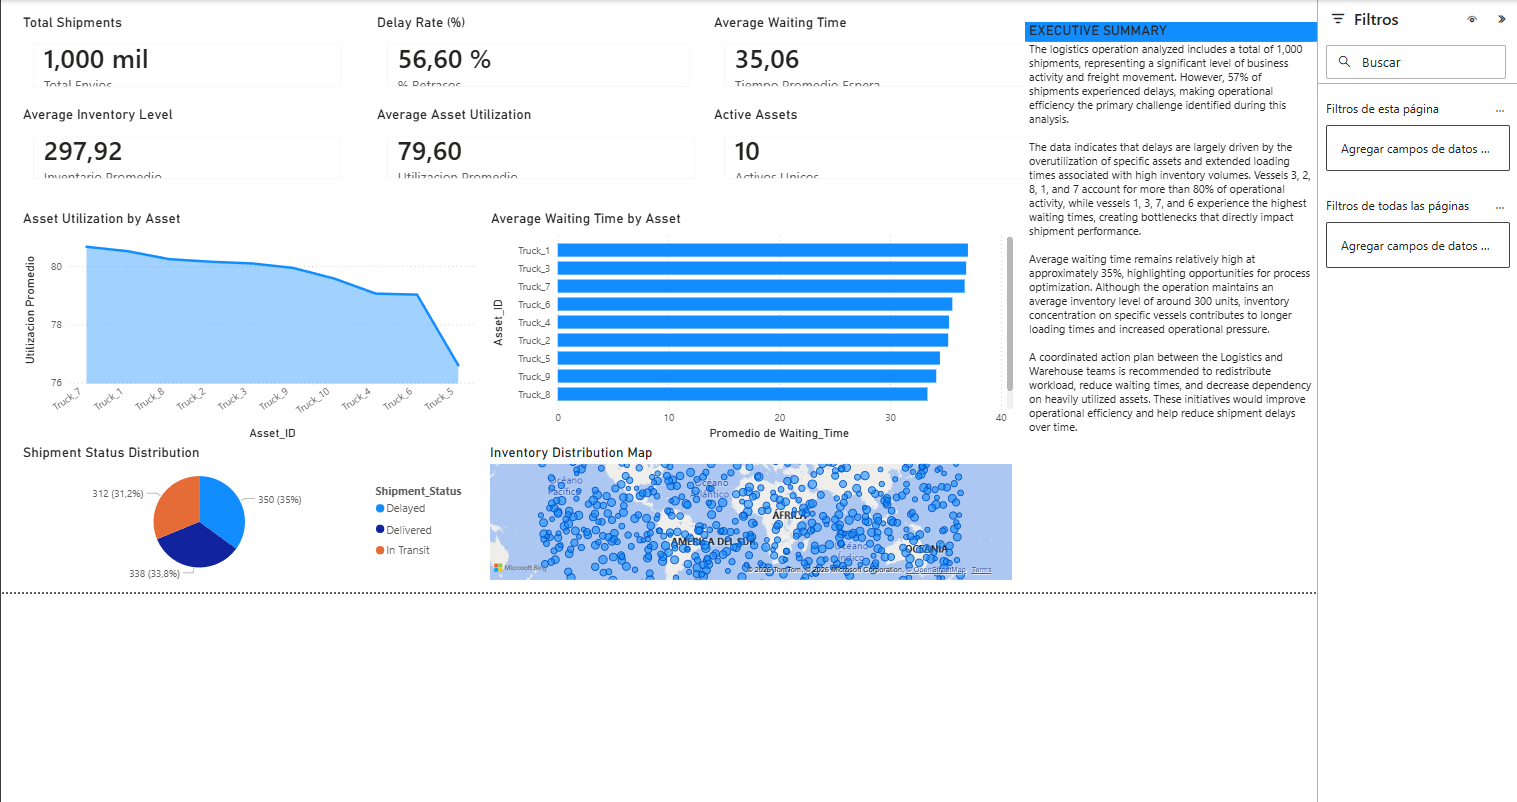

The page's visual inventory and layout, read from the dashboard file:
{"tool":"powerbi","page":{"name":"Executive Dashboard","canvas":[1600,720],"ordinal":0},"visuals":[{"type":"cardVisual","title":"Total Shipments","fields":{"Data":["Waiting_status.Total Envios"]},"box":[21.4,16.5,409.5,106],"z":0},{"type":"cardVisual","title":"Delay Rate (%)","fields":{"Data":["Waiting_status.% Retrasos"]},"box":[452.3,16.5,402.7,106],"z":1000},{"type":"cardVisual","title":"Average Waiting Time","fields":{"Data":["Waiting_status.Tiempo Promedio Espera"]},"box":[861.8,16.5,409.5,106],"z":2000},{"type":"cardVisual","title":"Average Inventory Level","fields":{"Data":["Waiting_status.Inventario Promedio"]},"box":[21.4,129.4,409.5,106],"z":3000},{"type":"cardVisual","title":"Average Asset Utilization","fields":{"Data":["Waiting_status.Utilizacion Promedio"]},"box":[452.3,129.4,409.5,106],"z":4000},{"type":"cardVisual","title":"Active Assets","fields":{"Data":["Waiting_status.Activos Unicos"]},"box":[861.8,129.4,409.5,106],"z":5000},{"type":"areaChart","title":"Asset Utilization by Asset","fields":{"Category":["tbl_logistics.Asset_ID"],"Y":["Waiting_status.Utilizacion Promedio"]},"box":[21.4,255.8,559.3,284],"z":6000},{"type":"barChart","title":"Average Waiting Time by Asset","fields":{"Category":["tbl_logistics.Asset_ID"],"Y":["Avg(tbl_logistics.Waiting_Time)"]},"box":[590.4,255.8,644.9,284],"z":7000},{"type":"pieChart","title":"Shipment Status Distribution","fields":{"Category":["tbl_logistics.Shipment_Status"],"Y":["CountNonNull(tbl_logistics.Shipment_Status)"]},"box":[22.4,539.8,558.3,170.2],"z":8000},{"type":"map","title":"Inventory Distribution Map","fields":{"Y":["tbl_logistics.Latitude"],"X":["tbl_logistics.Longitude"],"Size":["Avg(tbl_logistics.Inventory_Level)"]},"box":[590,540,645,170],"z":9000},{"type":"textbox","title":"EXECUTIVE SUMMARY","box":[1245,26.7,355,672.3],"z":9001}]}

Visuals, with their boxes on the page's 1600x720 design canvas (x1, y1, x2, y2). These are canvas units, not pixel positions in the 1517x802 screenshot, which may show the page scaled, cropped or inside an application window:
"Total Shipments" cardVisual: x1=21, y1=16, x2=431, y2=122
"Delay Rate (%)" cardVisual: x1=452, y1=16, x2=855, y2=122
"Average Waiting Time" cardVisual: x1=862, y1=16, x2=1271, y2=122
"Average Inventory Level" cardVisual: x1=21, y1=129, x2=431, y2=235
"Average Asset Utilization" cardVisual: x1=452, y1=129, x2=862, y2=235
"Active Assets" cardVisual: x1=862, y1=129, x2=1271, y2=235
"Asset Utilization by Asset" areaChart: x1=21, y1=256, x2=581, y2=540
"Average Waiting Time by Asset" barChart: x1=590, y1=256, x2=1235, y2=540
"Shipment Status Distribution" pieChart: x1=22, y1=540, x2=581, y2=710
"Inventory Distribution Map" map: x1=590, y1=540, x2=1235, y2=710
"EXECUTIVE SUMMARY" textbox: x1=1245, y1=27, x2=1600, y2=699
